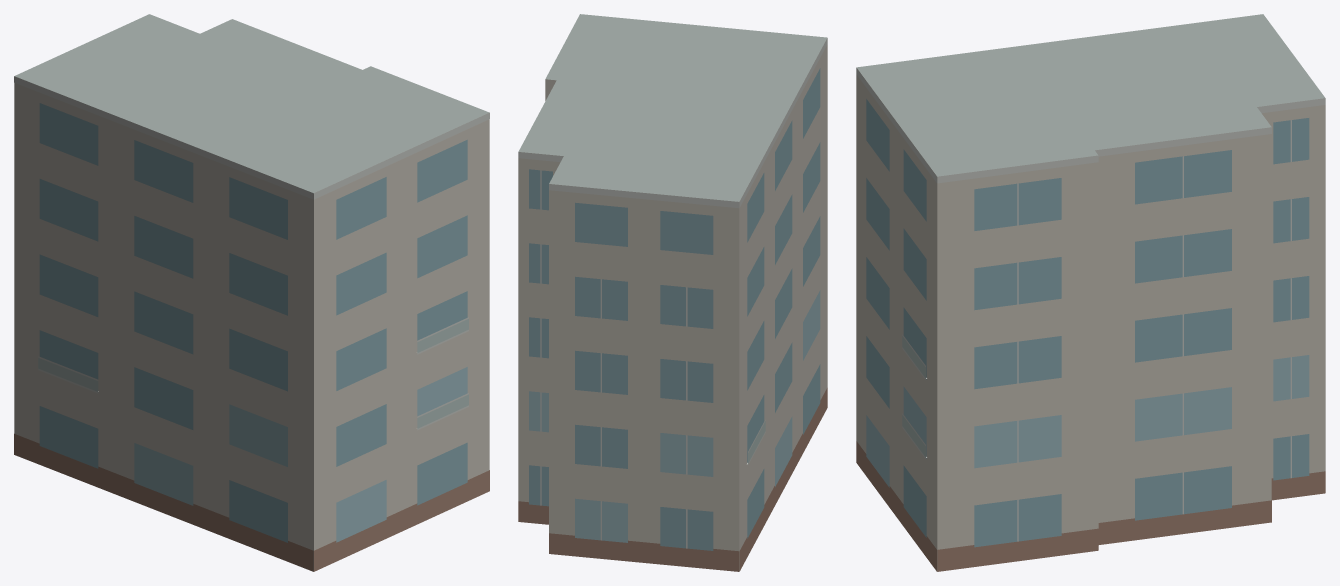
File: survey-upis-32745751.glb
3 views of the same model, side by side, from view 1: azimuth 30°, elevation 25°; view 2: azimuth 150°, elevation 25°; view 3: azimuth 270°, elevation 25° (orthographic). The views are drawn at different scales.
Visible parts, largest first — view 1: survey-upis-32745751.tmp; view 2: survey-upis-32745751.tmp; view 3: survey-upis-32745751.tmp.
Boxes of the visible parts, box(x1,y1,x2,y2) form: survey-upis-32745751.tmp: box(14, 14, 489, 571); survey-upis-32745751.tmp: box(518, 14, 827, 571); survey-upis-32745751.tmp: box(856, 14, 1325, 571).
Bounding box in the file's own units: 12.54 × 14.2 × 15.29.
